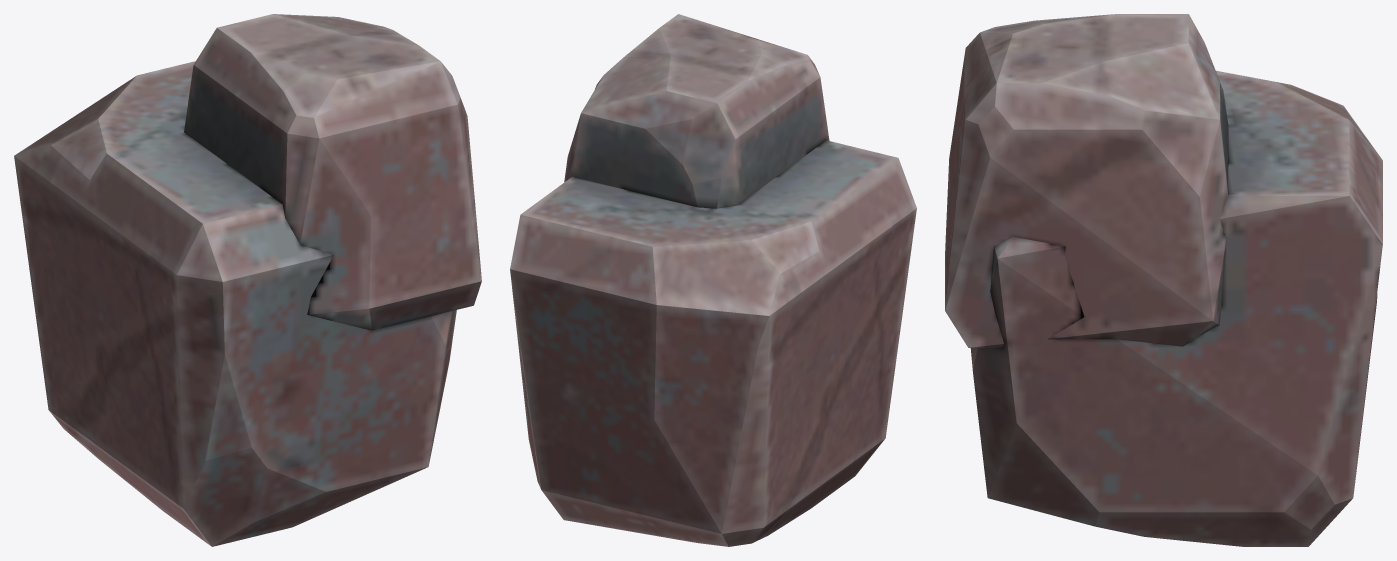
File: IronCrushed.glb
3 renders of one model, left to right at view 1: azimuth 30°, elevation 25°; view 2: azimuth 150°, elevation 25°; view 3: azimuth 270°, elevation 25°, orthographic. The views are drawn at different scales.
Parts seen in each view (by area): view 1: IronCrushed; view 2: IronCrushed; view 3: IronCrushed.
Part boxes in pixels (box(x1,y1,x2,y2)): IronCrushed: box(14, 14, 481, 546); IronCrushed: box(510, 14, 916, 546); IronCrushed: box(945, 14, 1382, 546).
Bounding box in the file's own units: 0.092 × 0.131 × 0.1096.
Materials: 1 (1 with a texture image).
